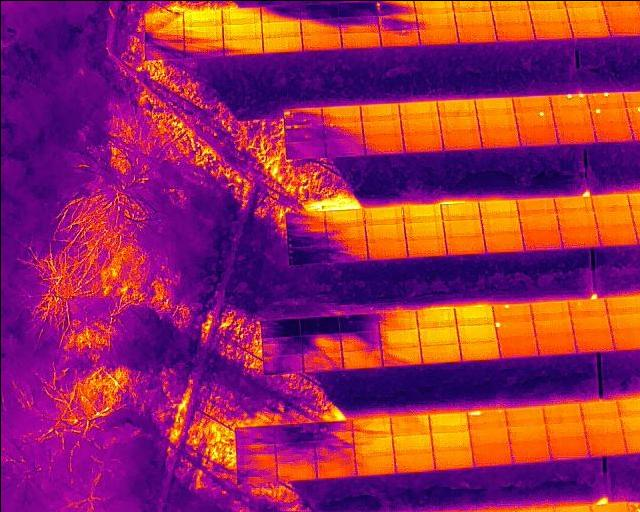Cell: (514, 109, 554, 128), (493, 320, 534, 338), (590, 108, 630, 124), (492, 304, 532, 320), (376, 0, 415, 15)
Cell-Multi: (283, 107, 322, 126), (586, 91, 628, 108), (550, 93, 590, 110), (284, 124, 323, 140)
No-Anomaly: (587, 432, 624, 456), (432, 449, 471, 471), (548, 436, 586, 458), (497, 338, 539, 357), (418, 344, 460, 363), (415, 326, 459, 344), (390, 415, 429, 435), (354, 456, 393, 476), (483, 231, 524, 250), (573, 334, 614, 353), (511, 442, 548, 463), (593, 123, 633, 142), (341, 349, 381, 368), (543, 402, 581, 422), (353, 436, 393, 455), (314, 459, 354, 478), (559, 228, 599, 247), (522, 229, 562, 248), (530, 300, 570, 319), (362, 138, 404, 156), (534, 337, 576, 355), (458, 341, 500, 359), (378, 328, 420, 346), (469, 427, 508, 446), (472, 446, 511, 465), (394, 453, 433, 472), (378, 309, 417, 328), (406, 237, 447, 255), (431, 430, 469, 449), (277, 460, 315, 479), (183, 8, 221, 27), (592, 194, 630, 213), (555, 125, 595, 143), (506, 406, 543, 425), (429, 413, 466, 432), (399, 101, 438, 119), (402, 118, 441, 136), (518, 128, 557, 146), (479, 198, 518, 216), (568, 298, 607, 316), (454, 305, 493, 323), (401, 204, 442, 221), (556, 211, 597, 228), (532, 319, 573, 336), (581, 401, 617, 420), (477, 115, 517, 132), (362, 120, 402, 137), (441, 132, 481, 149), (403, 135, 443, 152), (417, 28, 457, 45), (594, 213, 634, 230), (444, 234, 484, 251), (365, 241, 405, 258), (571, 317, 611, 334), (362, 208, 404, 224), (476, 98, 513, 116), (583, 418, 620, 436), (456, 24, 493, 42), (437, 100, 476, 117), (321, 106, 360, 123), (545, 422, 584, 439), (221, 7, 260, 24), (517, 197, 556, 214), (261, 20, 300, 37), (416, 310, 455, 327), (494, 24, 533, 41), (518, 213, 559, 229), (403, 221, 444, 237), (598, 230, 639, 246), (393, 435, 431, 452), (456, 323, 494, 340), (359, 104, 399, 120), (552, 109, 592, 125), (439, 117, 479, 133), (378, 30, 418, 46), (323, 210, 363, 226), (364, 224, 404, 240), (221, 23, 261, 39), (301, 33, 338, 50), (570, 20, 607, 37), (533, 21, 570, 38), (512, 94, 551, 110), (340, 33, 379, 49), (480, 216, 521, 231), (416, 13, 454, 29), (441, 203, 479, 219), (479, 132, 519, 147), (261, 37, 301, 52), (443, 219, 483, 234), (508, 425, 545, 441), (554, 196, 594, 210), (530, 7, 567, 22), (567, 6, 606, 20), (453, 11, 493, 24), (494, 10, 531, 24), (606, 5, 640, 20), (607, 20, 640, 35)
Shadowing: (236, 461, 276, 482), (311, 421, 353, 440), (351, 417, 390, 437), (235, 443, 276, 462), (284, 139, 324, 158), (301, 333, 341, 352), (235, 424, 274, 443), (380, 347, 421, 365), (261, 353, 302, 371), (312, 441, 353, 459), (287, 244, 325, 263), (340, 313, 378, 332), (323, 122, 362, 140), (272, 424, 311, 442), (325, 243, 366, 260), (260, 336, 301, 353), (275, 442, 313, 460), (324, 140, 364, 157), (300, 316, 340, 333), (302, 352, 341, 369), (144, 12, 183, 29), (377, 13, 416, 30), (300, 18, 339, 35), (261, 319, 300, 336), (341, 332, 380, 349), (325, 226, 366, 242), (144, 43, 182, 60), (223, 40, 263, 56), (338, 16, 378, 32), (260, 5, 299, 21), (337, 0, 376, 16), (299, 3, 337, 19), (287, 227, 325, 243), (182, 42, 222, 57), (182, 26, 222, 41), (143, 28, 182, 43), (286, 211, 324, 226)
Unclassified: (467, 408, 506, 428)
